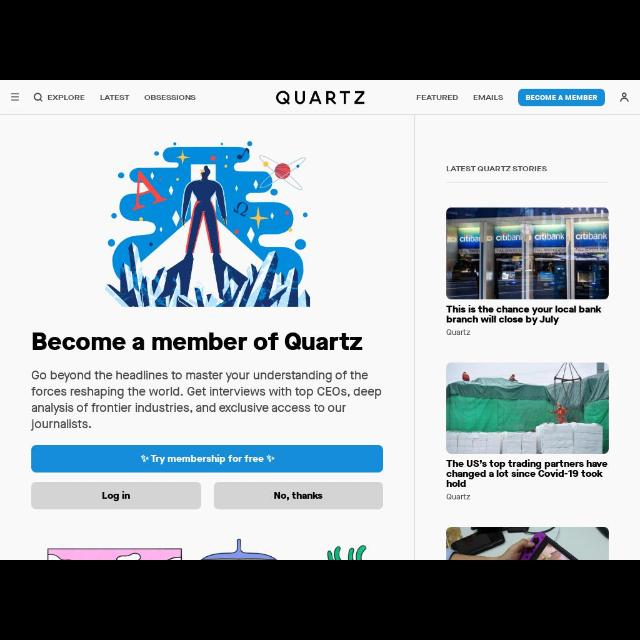icon: (150, 454, 264, 464), (272, 490, 326, 502), (525, 95, 599, 102), (100, 491, 132, 503), (32, 92, 44, 104), (9, 91, 19, 103), (264, 454, 276, 464), (621, 92, 629, 102), (140, 454, 148, 464)
image: (105, 140, 309, 308), (446, 206, 610, 300), (446, 362, 610, 452), (445, 526, 609, 560), (274, 88, 366, 106)
text: (31, 368, 383, 430), (29, 331, 363, 353), (446, 458, 608, 488), (446, 304, 602, 326), (447, 165, 548, 172), (143, 95, 194, 102), (445, 491, 473, 501), (99, 92, 129, 101), (416, 94, 458, 100), (447, 326, 471, 336), (46, 94, 85, 100), (473, 95, 503, 102)
textbutton: (31, 444, 383, 472), (30, 481, 202, 509), (214, 482, 382, 510), (518, 89, 606, 108)
toolbar: (1, 81, 639, 115)
